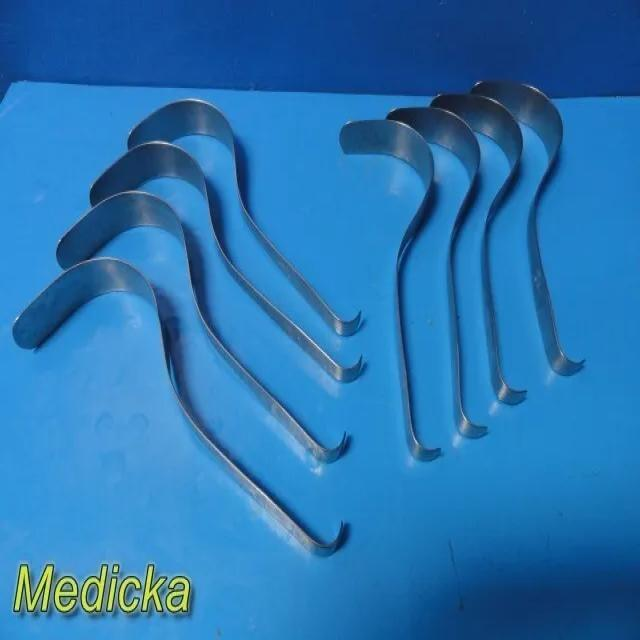Deaver Retractor: (8, 260, 350, 567), (53, 188, 350, 478), (79, 140, 365, 390), (124, 95, 362, 338), (334, 117, 446, 471), (465, 76, 591, 386), (386, 97, 491, 449), (434, 84, 530, 424)
